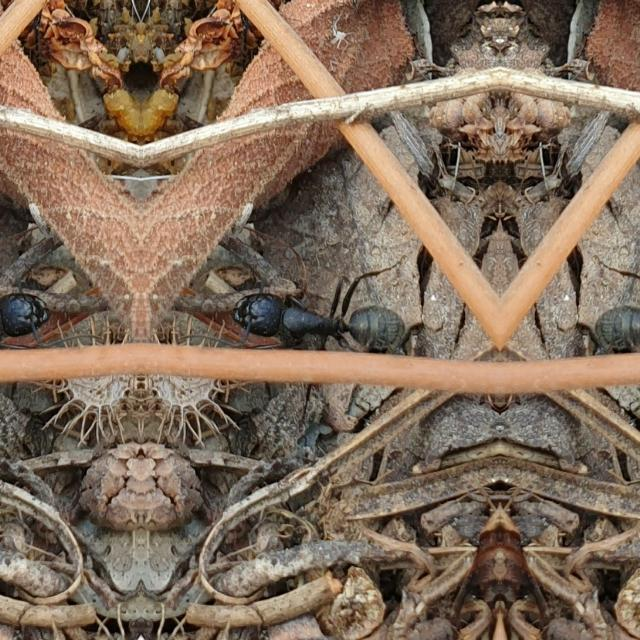Camponotus: (213, 233, 415, 394), (0, 232, 66, 393), (584, 232, 640, 394)
